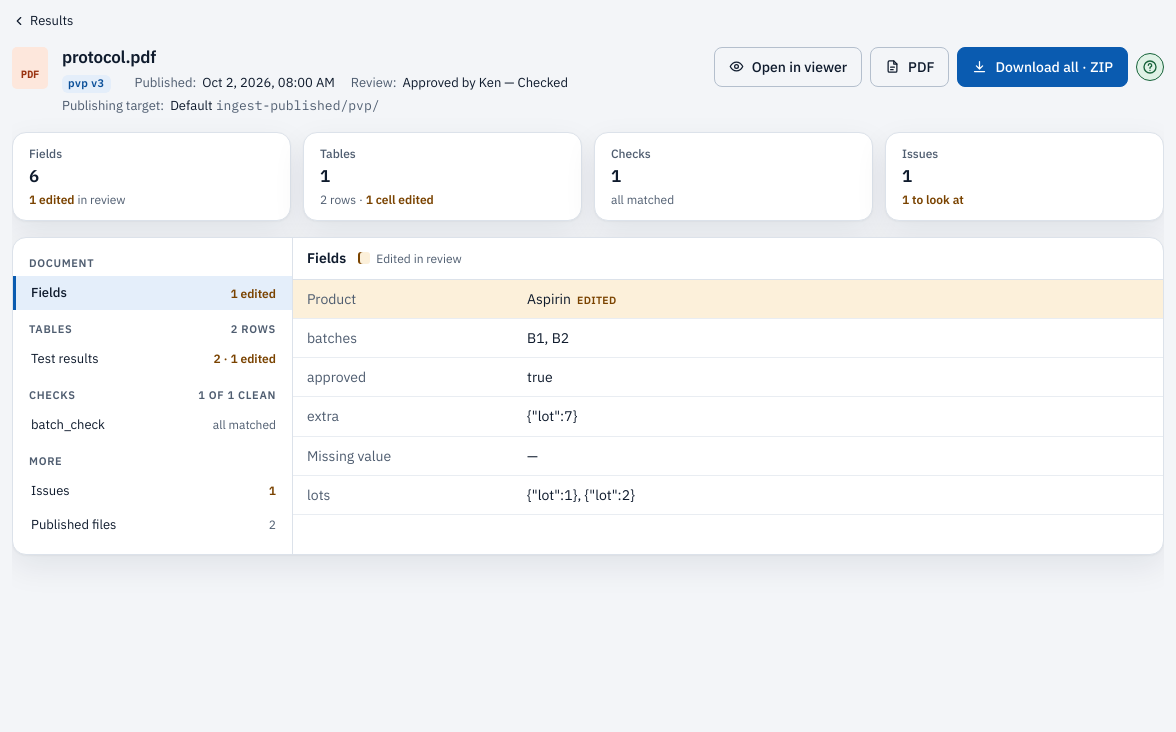
Test: ResultDetailView › shows the header, review, target and published downloads
The width and height of the screenshot is (1176, 732).
Expected: the heading "protocol.pdf" is shown, [62,46,156,68]
Expected: the text "pvp v3" is shown, [62,75,110,93]
Click the button "Published files 2": [74, 524] box [13,508,292,542]
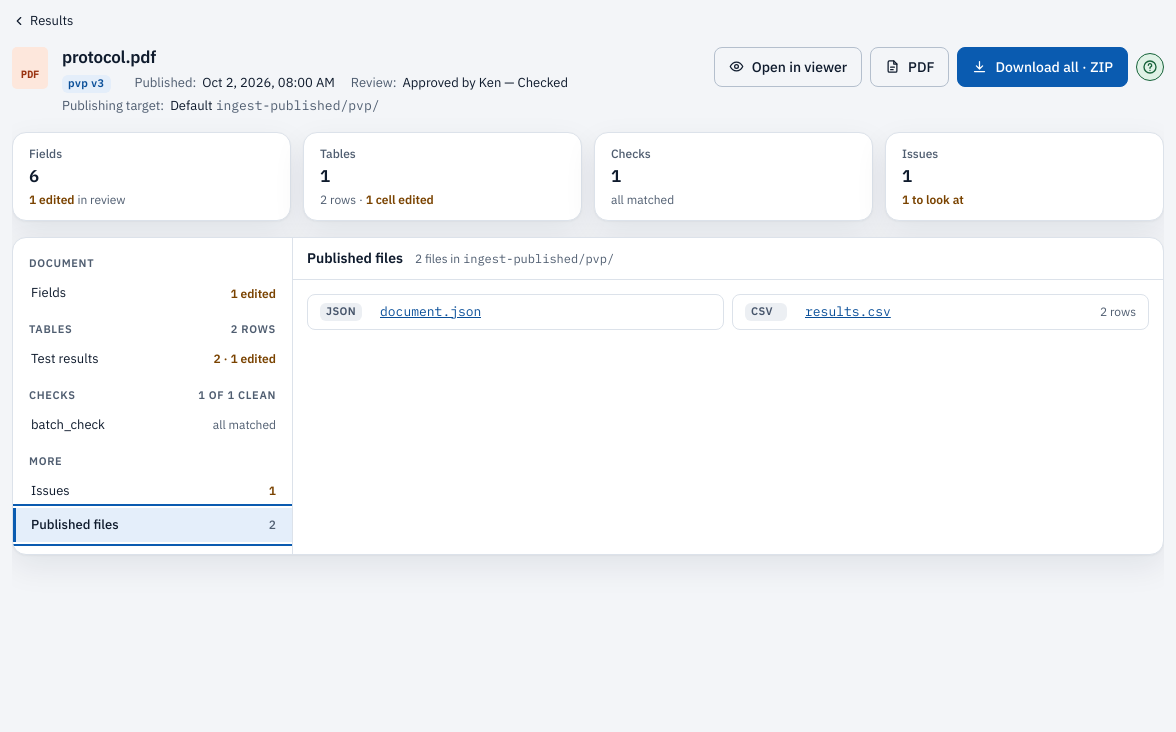
Now the text "2 rows" in the row of "results.csv" is shown, box [1100,304,1136,319]
